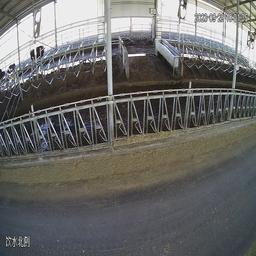cow: (27, 45, 46, 74), (5, 61, 17, 86)
